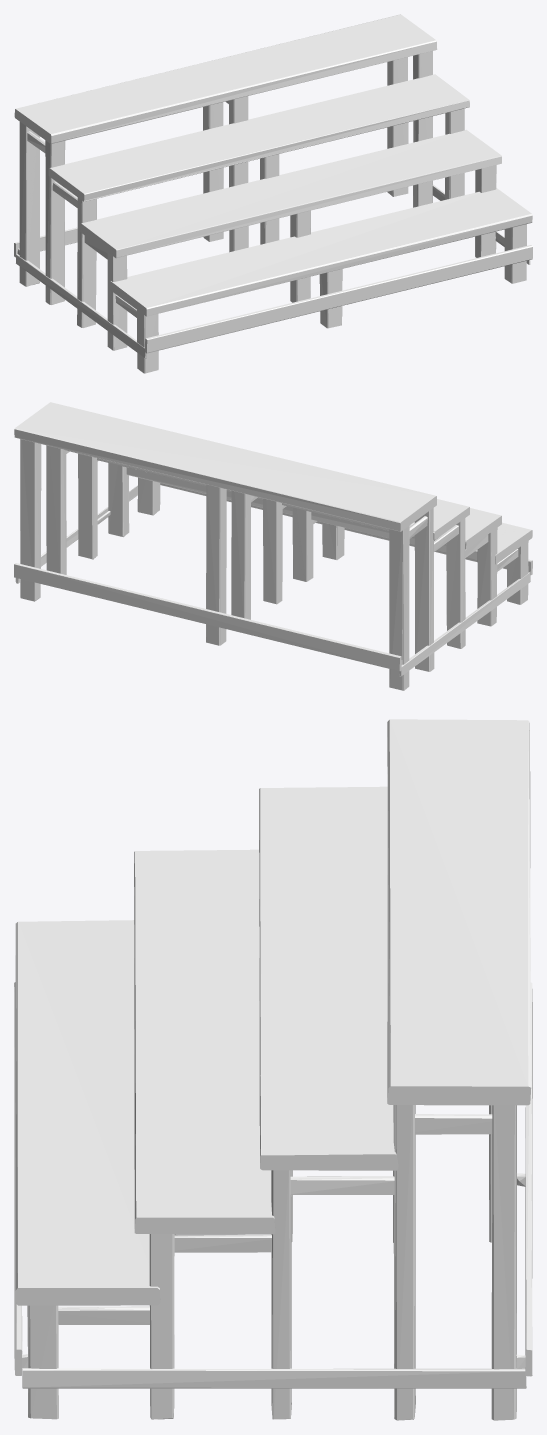
The model's file is Meshy_AI_Wooden_Bleachers_1018131917_auto-uv.fbx.
3 renders of one model, top to bottom at view 1: azimuth 30°, elevation 25°; view 2: azimuth 150°, elevation 25°; view 3: azimuth 270°, elevation 25°, orthographic. The views are drawn at different scales.
Parts seen in each view (by area): view 1: mesh_node; view 2: mesh_node; view 3: mesh_node.
Boxes of the visible parts, left/top/right/bottom form: mesh_node: left=14, top=14, right=532, bottom=373; mesh_node: left=14, top=402, right=532, bottom=690; mesh_node: left=14, top=719, right=532, bottom=1420.
Bounding box in the file's own units: 100 × 42.77 × 59.81.
Materials: 1 (1 with a texture image).
